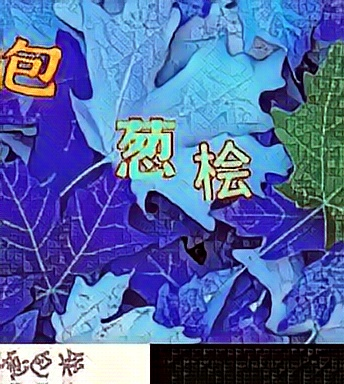B0FC: (1, 35, 64, 102)
B4D0: (115, 115, 178, 182)
E8ED: (190, 136, 253, 203)
